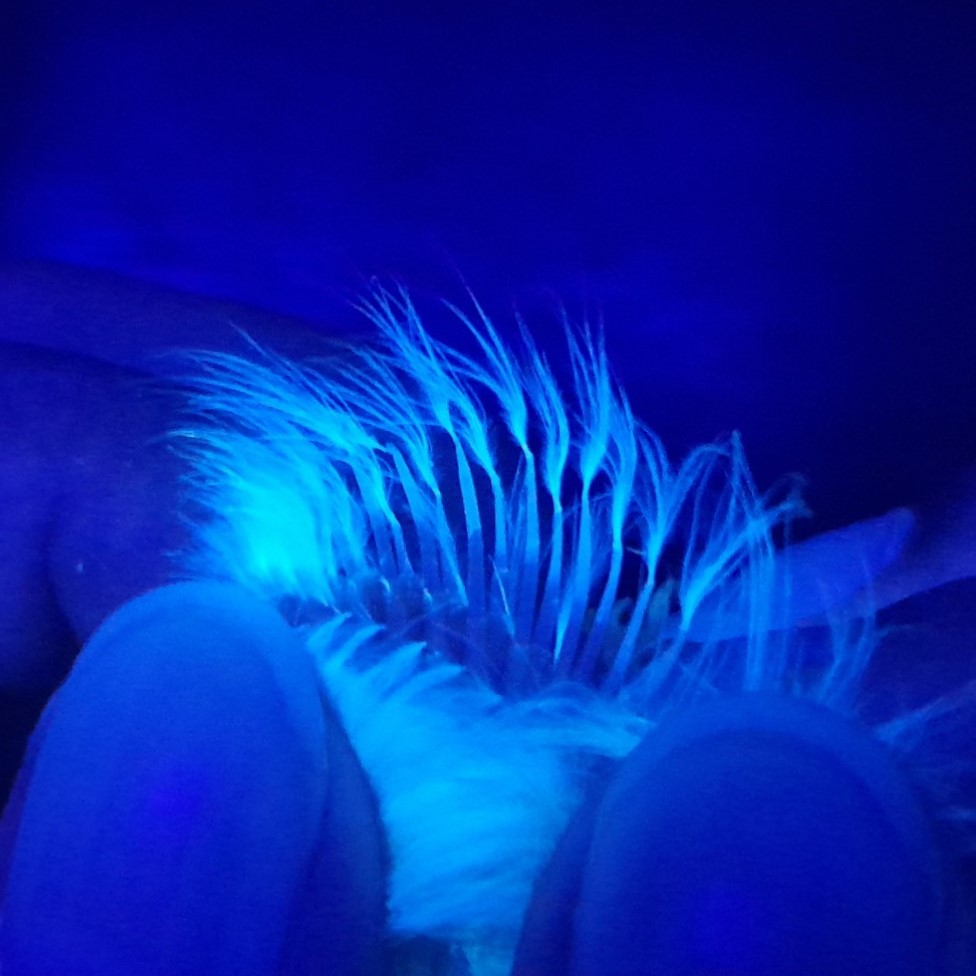male: (303, 417, 709, 765)
